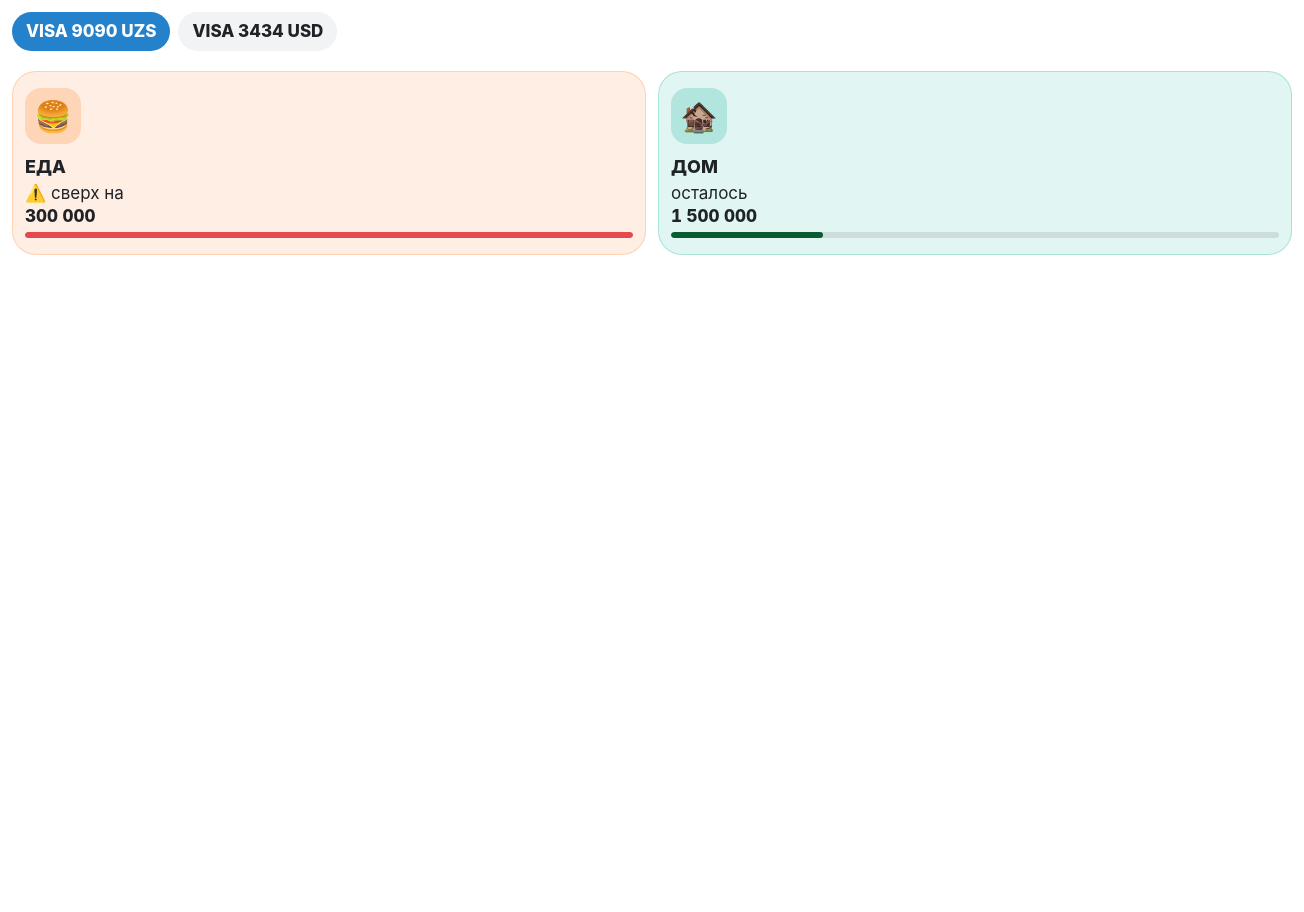
Test: EntryScreen › sends again by itself with the same entry id when the sheet is down
Step 1. Click the button "🍔 ЕДА ⚠️ сверх на 300 000" → [53, 116], box [12,71,646,255]
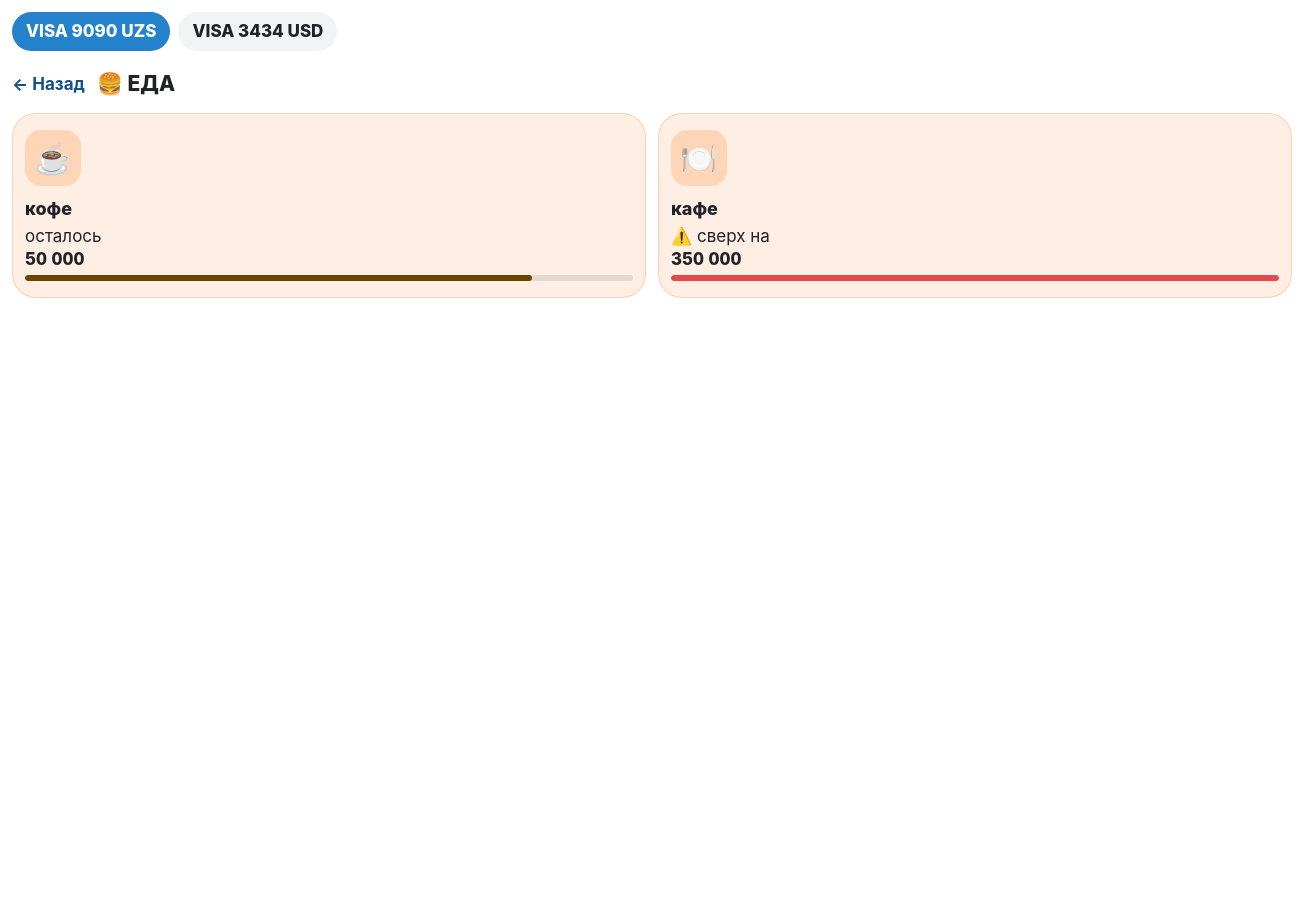
Step 2. Click the button "☕ кофе осталось 50 000" → [53, 158], box [12,113,646,298]
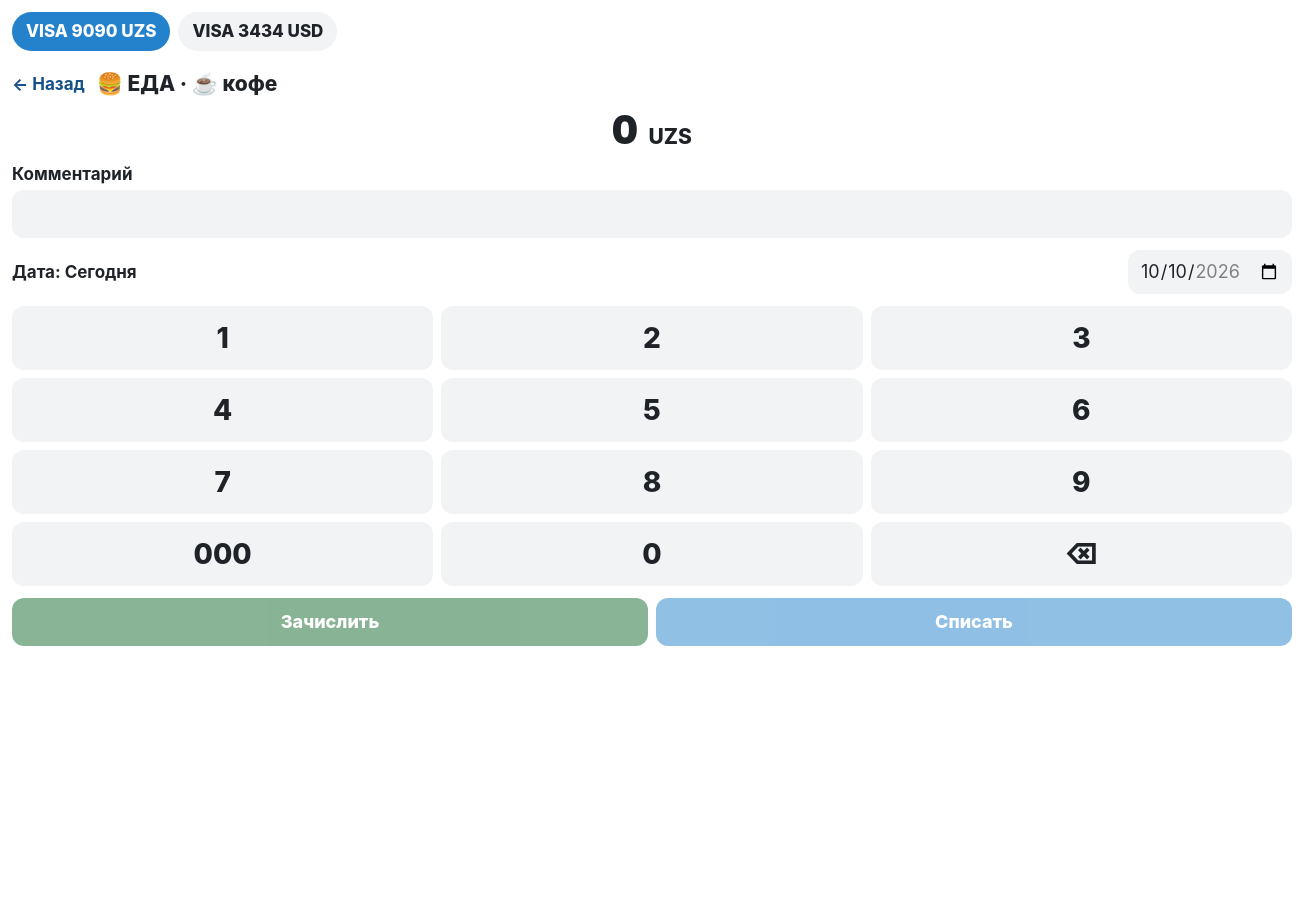
Step 3. Click the button "4" → [223, 410], box [12,378,433,442]
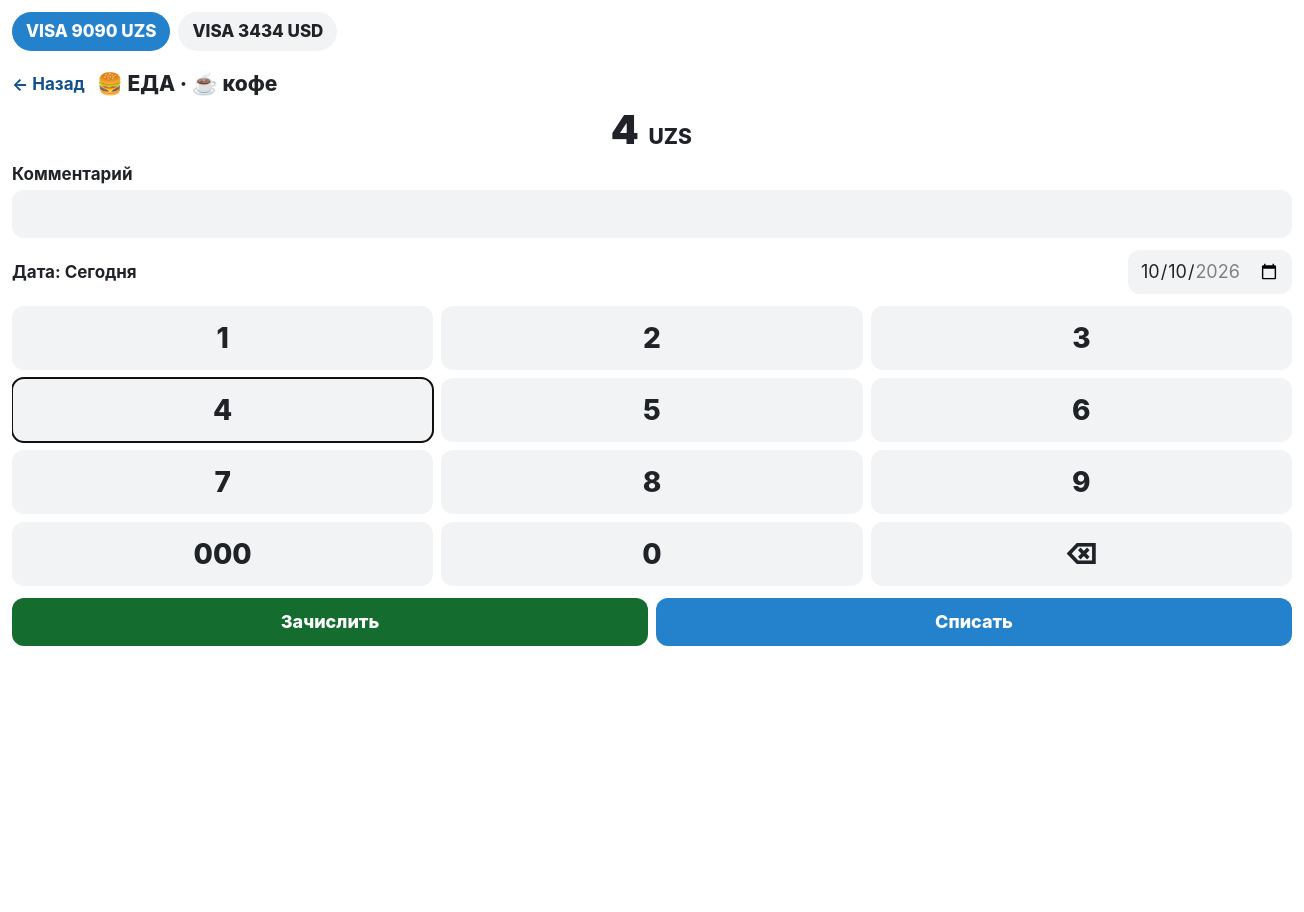
Step 4. Click the button "8" → [652, 482], box [441,450,863,514]
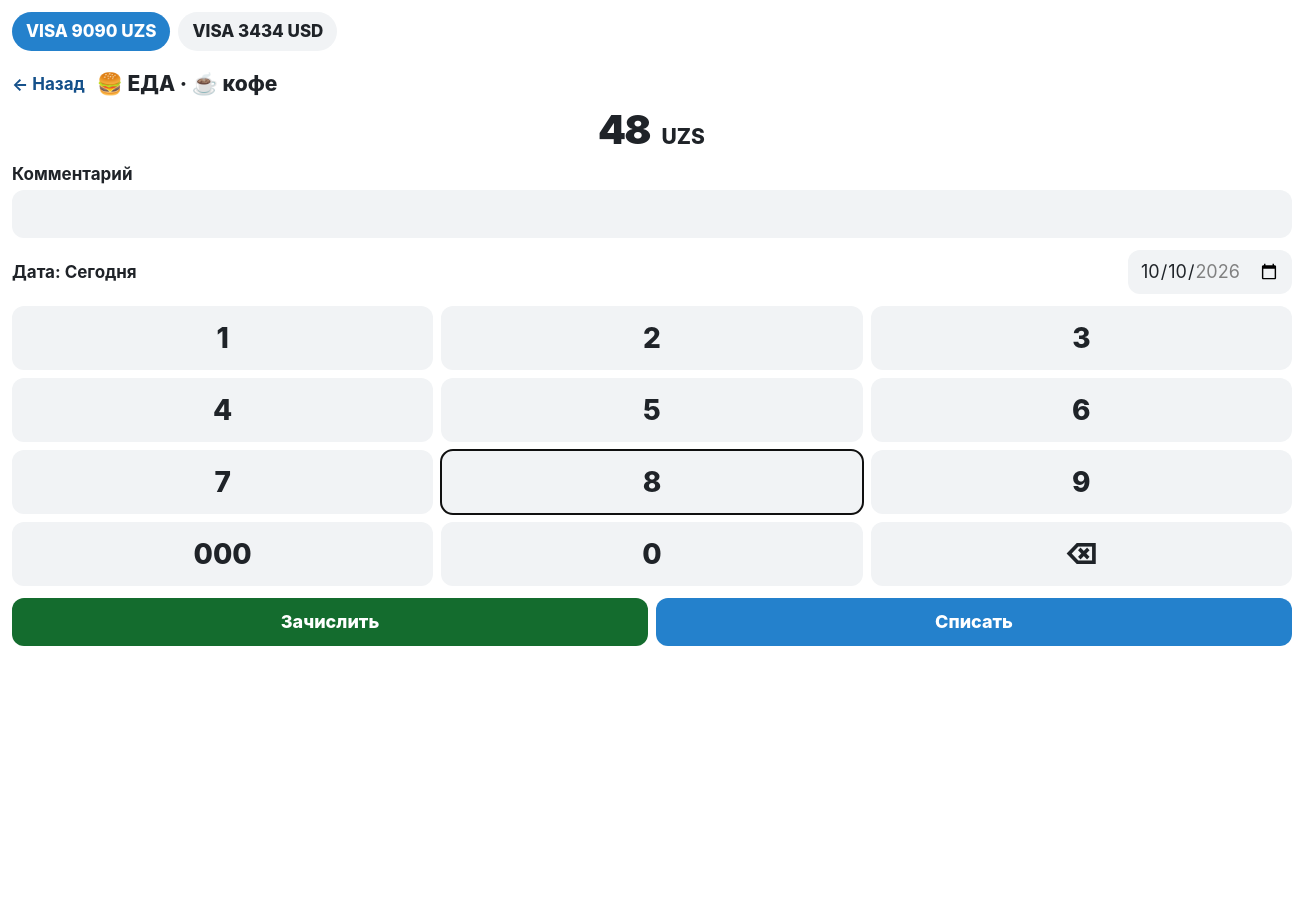
Step 5. Click the button "000" → [223, 554], box [12,522,433,586]
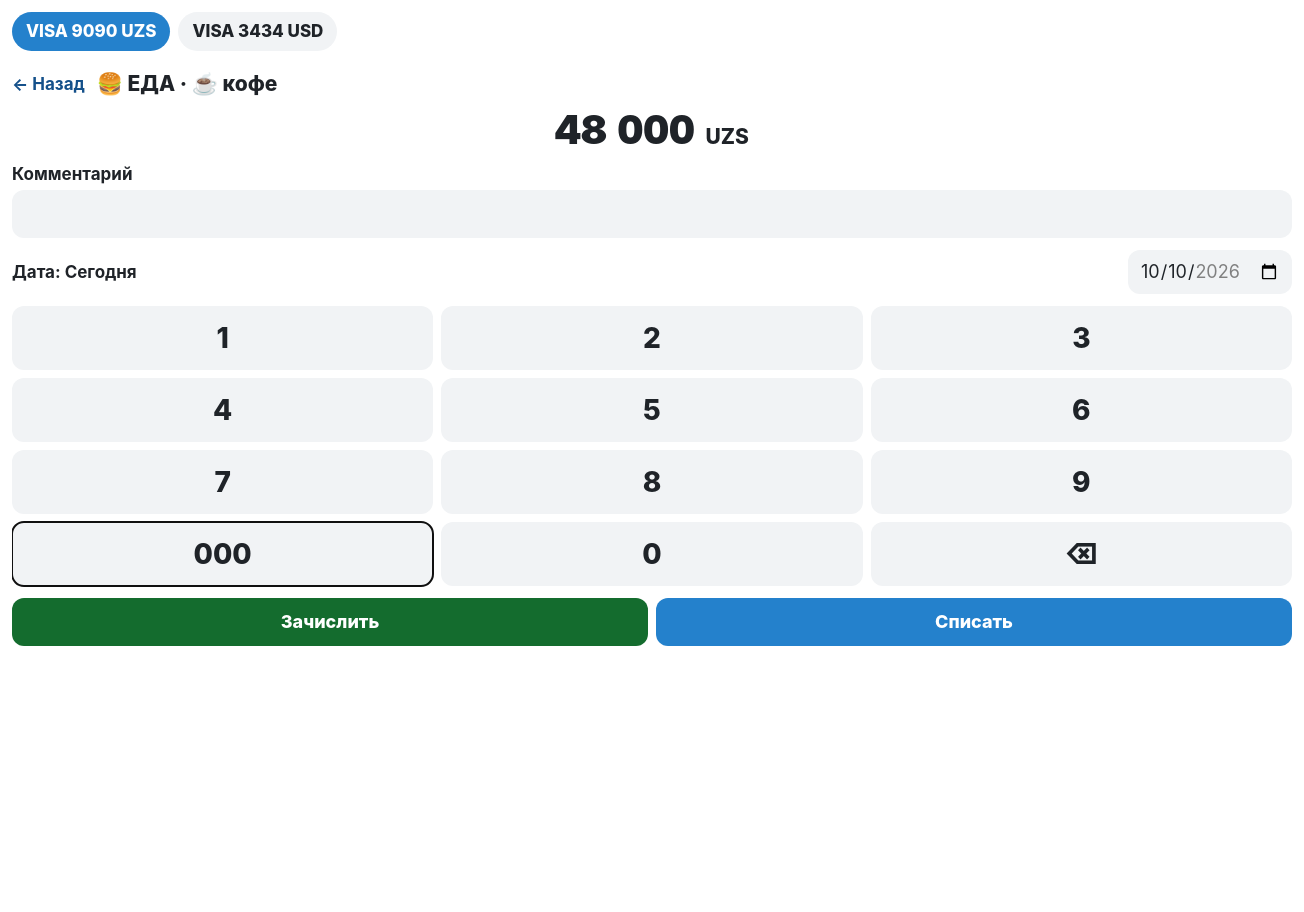
Step 6. Click the button "Списать" → [974, 622], box [656,598,1292,646]
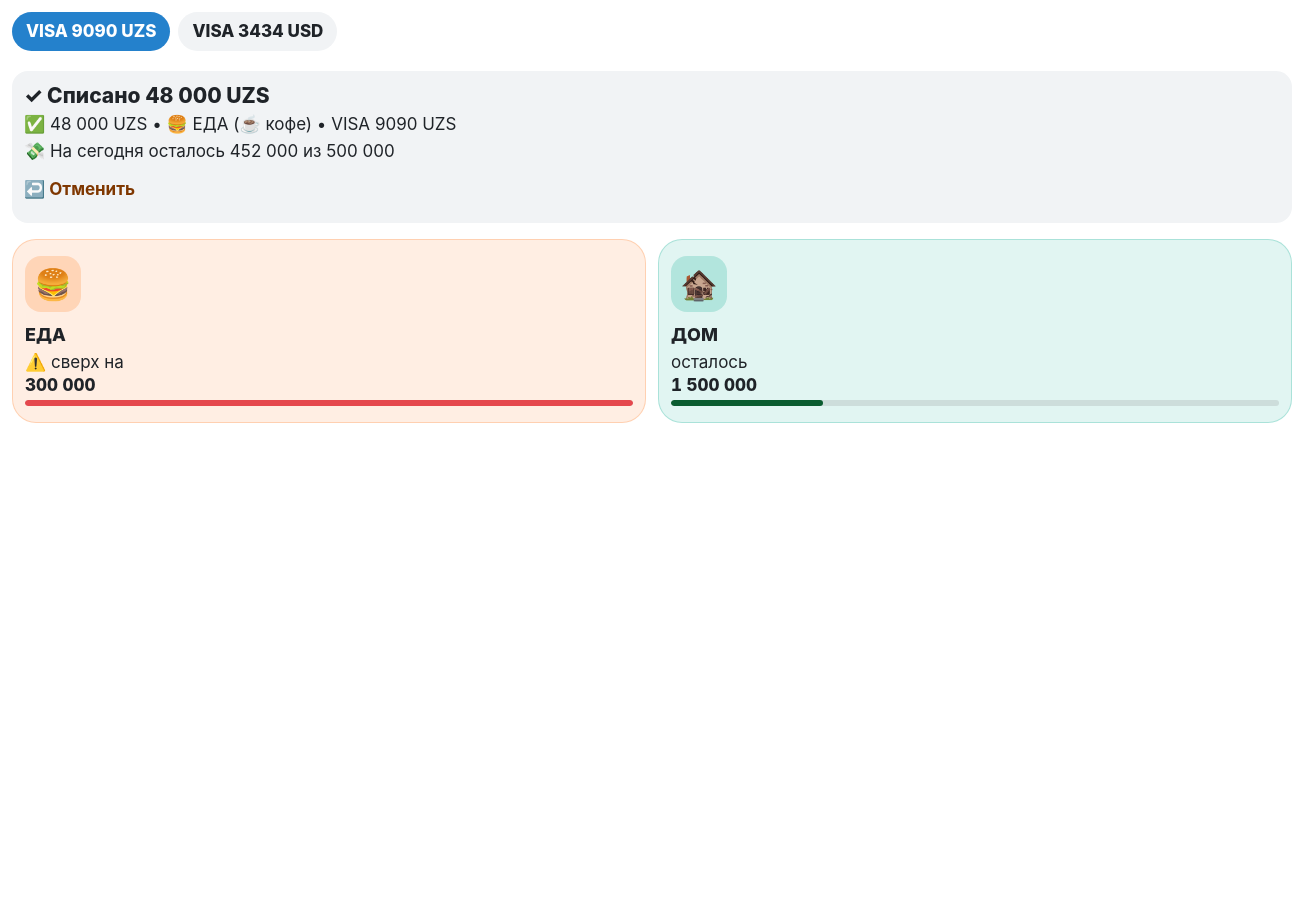
Now the text "✅ 48 000 UZS • 🍔 ЕДА (☕ кофе) • VISA 9090 UZS" is shown, box [24,114,456,134]
